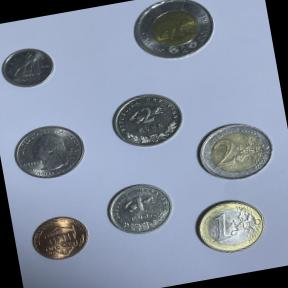coin: (188, 113, 281, 190), (122, 0, 224, 69), (186, 190, 273, 262), (6, 116, 92, 188), (104, 83, 189, 153), (24, 208, 96, 266), (0, 41, 61, 96)
